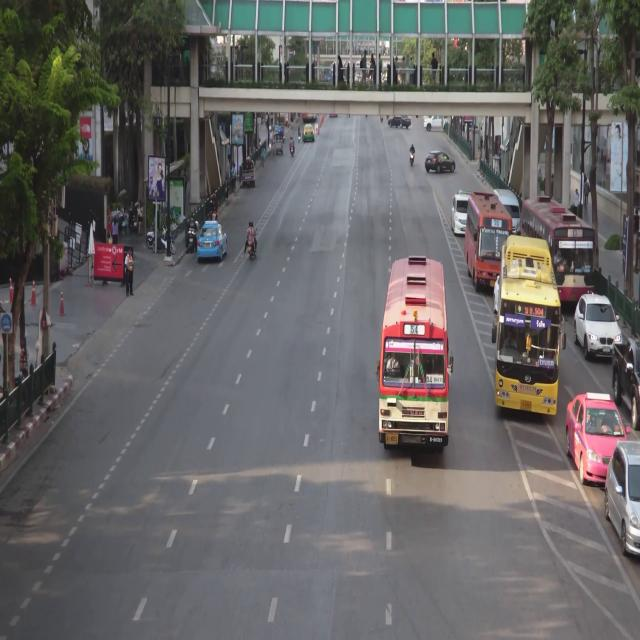bus: (381, 259, 447, 453), (498, 237, 556, 416), (521, 203, 593, 303), (469, 192, 511, 287)
car: (606, 441, 640, 559), (576, 297, 624, 359), (615, 338, 640, 419), (495, 189, 522, 233), (424, 151, 456, 173), (452, 195, 468, 236), (242, 163, 255, 189), (423, 118, 447, 132), (388, 116, 411, 128), (273, 133, 283, 155)
pedestrian: (125, 249, 134, 296), (583, 174, 590, 206), (137, 200, 143, 237), (112, 217, 118, 248), (231, 162, 237, 193), (574, 188, 580, 215), (225, 173, 229, 208), (538, 169, 542, 195), (551, 174, 555, 197), (261, 147, 265, 169), (298, 123, 301, 144), (270, 129, 273, 149)
taxi: (566, 389, 626, 493), (198, 222, 228, 261), (302, 124, 314, 142)
